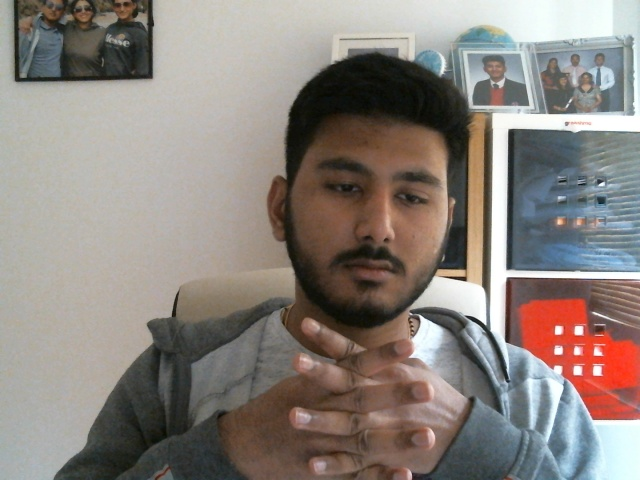how: (285, 316, 436, 480)
